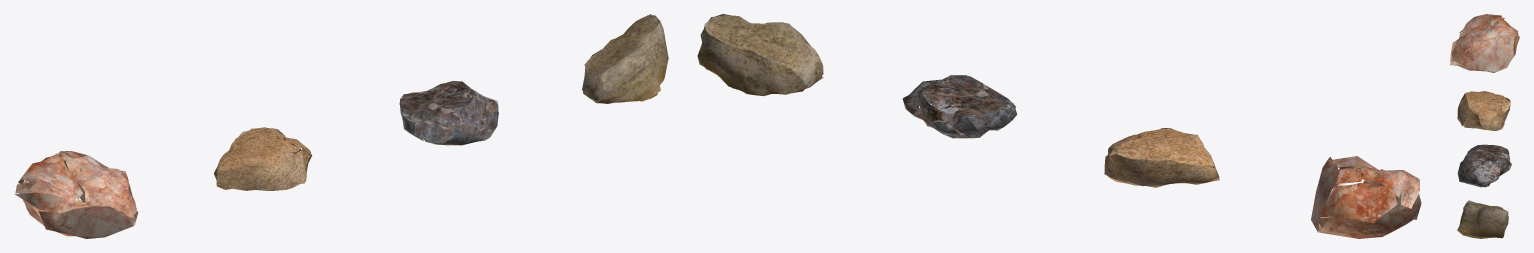
File: namaqualand_rocks_01.glb
3 views of the same model, side by side, from view 1: azimuth 30°, elevation 25°; view 2: azimuth 150°, elevation 25°; view 3: azimuth 270°, elevation 25° (orthographic). The views are drawn at different scales.
Visible parts, largest first — view 1: namaqualand_rocks_02_a, namaqualand_rocks_02_d, namaqualand_rocks_02_c, namaqualand_rocks_02_b; view 2: namaqualand_rocks_02_d, namaqualand_rocks_02_a, namaqualand_rocks_02_b, namaqualand_rocks_02_c; view 3: namaqualand_rocks_02_a, namaqualand_rocks_02_b, namaqualand_rocks_02_c, namaqualand_rocks_02_d.
Boxes of the visible parts, x1,y1,x2,y2 form: namaqualand_rocks_02_a: (14,151,138,238); namaqualand_rocks_02_d: (582,14,668,103); namaqualand_rocks_02_c: (399,81,498,145); namaqualand_rocks_02_b: (214,127,311,190); namaqualand_rocks_02_d: (697,14,823,96); namaqualand_rocks_02_a: (1311,156,1421,238); namaqualand_rocks_02_b: (1104,128,1219,187); namaqualand_rocks_02_c: (902,75,1017,138); namaqualand_rocks_02_a: (1450,14,1519,72); namaqualand_rocks_02_b: (1457,91,1510,130); namaqualand_rocks_02_c: (1457,144,1511,187); namaqualand_rocks_02_d: (1457,200,1508,238).
Bounding box in the file's own units: 1.45 × 0.1461 × 0.2115.
1 material, 1 textured.
